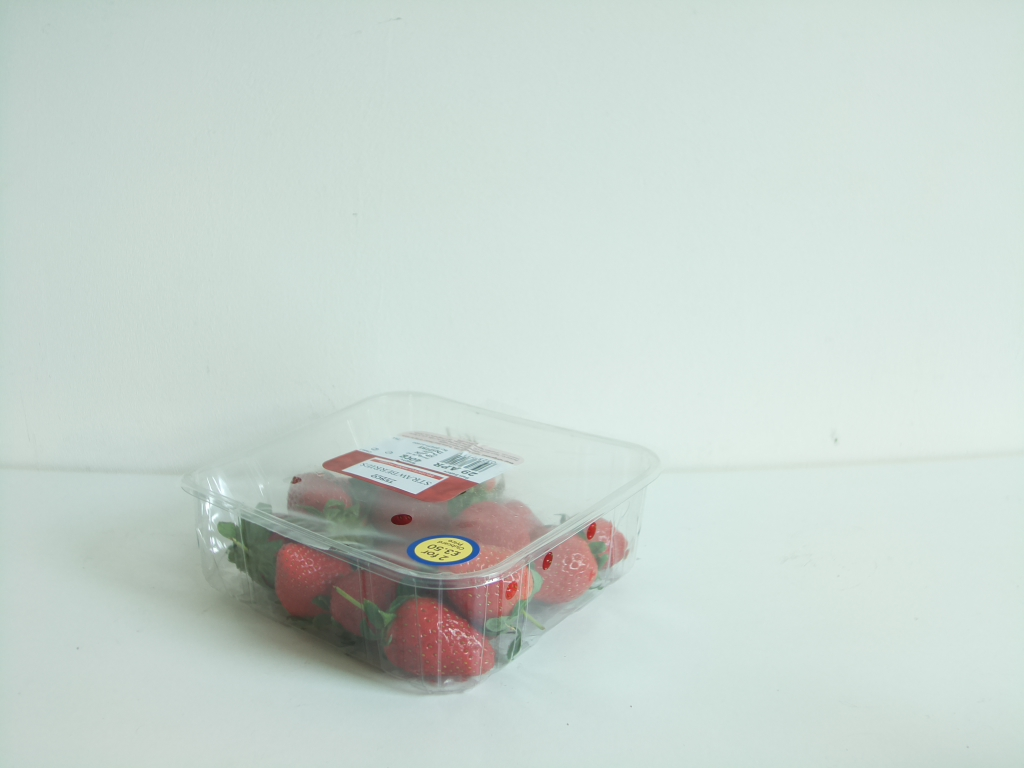soft-fruit: (175, 389, 666, 698)
